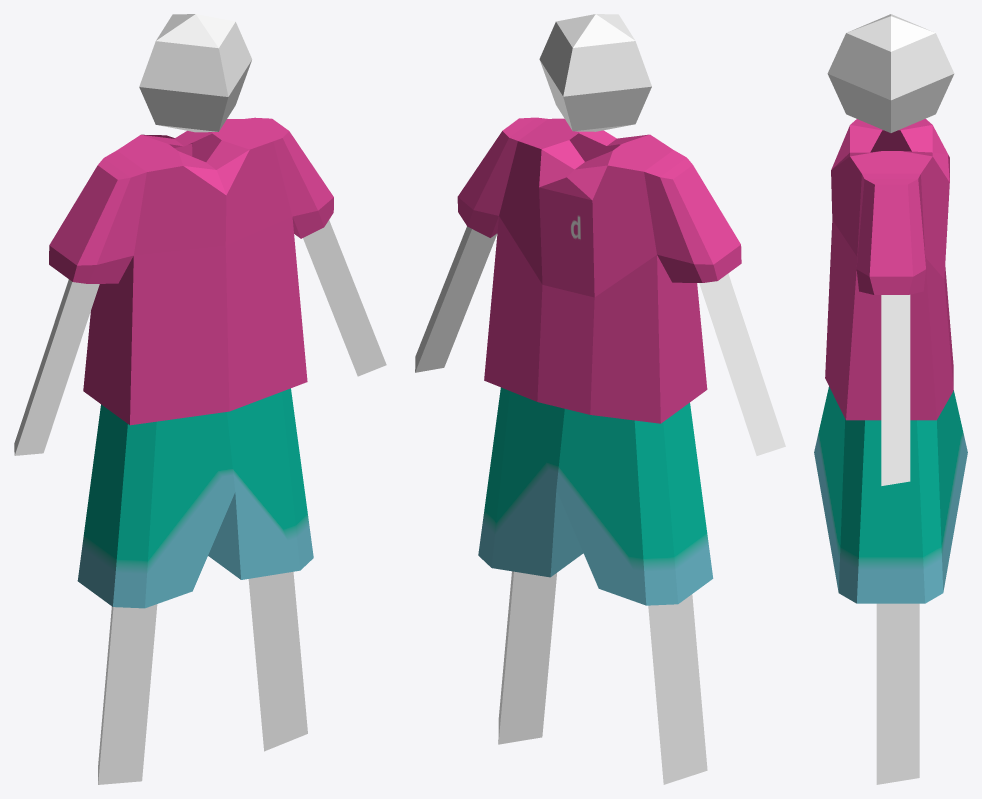
The model's file is nigiyakasi.fbx.
The picture shows the model from 3 angles, left to right: view 1: azimuth 30°, elevation 25°; view 2: azimuth 150°, elevation 25°; view 3: azimuth 270°, elevation 25°; orthographic projection. The views are drawn at different scales.
Visible parts, largest first — view 1: 円柱.002, 円柱.001, 円柱, 円柱.003, 球; view 2: 円柱.002, 円柱.001, 円柱, 円柱.003, 球; view 3: 円柱.002, 円柱.001, 球, 円柱, 円柱.003.
Part boxes in pixels (box(x1,y1,x2,y2)): 円柱.002: box(49, 117, 333, 425); 円柱.001: box(77, 388, 313, 608); 円柱: box(98, 571, 307, 784); 円柱.003: box(14, 220, 386, 455); 球: box(139, 14, 252, 132); 円柱.002: box(457, 117, 741, 423); 円柱.001: box(478, 387, 713, 605); 円柱: box(498, 571, 707, 784); 円柱.003: box(415, 226, 785, 455); 球: box(539, 14, 651, 131); 円柱.002: box(825, 119, 953, 420); 円柱.001: box(814, 386, 967, 603); 球: box(827, 14, 954, 132); 円柱: box(876, 603, 919, 784); 円柱.003: box(881, 295, 910, 485).
Bounding box in the file's own units: 367 × 704 × 135.
